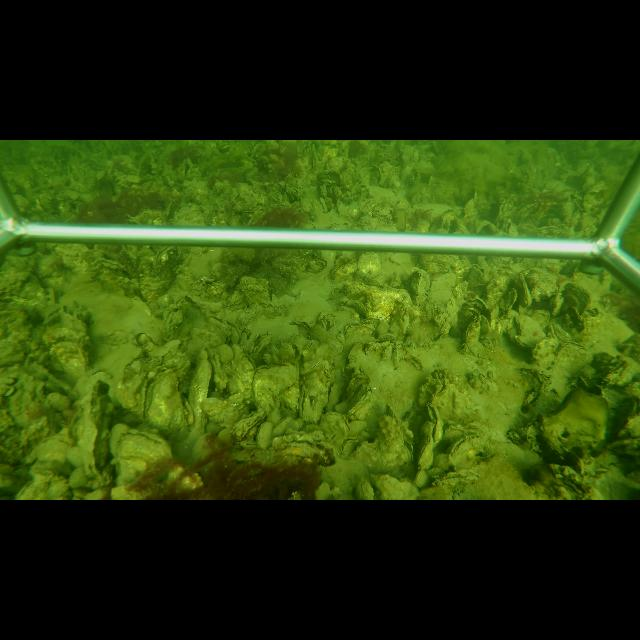Oyster-Closed: (532, 340, 590, 414), (115, 427, 175, 482), (76, 385, 104, 476), (112, 351, 150, 410), (250, 362, 296, 410), (46, 334, 90, 378), (142, 369, 178, 421), (199, 395, 248, 426), (272, 441, 336, 464), (231, 344, 255, 392), (307, 324, 346, 353), (232, 408, 265, 442), (189, 356, 211, 405), (448, 434, 481, 466), (346, 384, 374, 418), (564, 283, 590, 314), (297, 389, 310, 420), (550, 291, 564, 317)
Oyster-Open: (414, 406, 443, 472), (461, 315, 480, 351), (517, 271, 532, 306)
